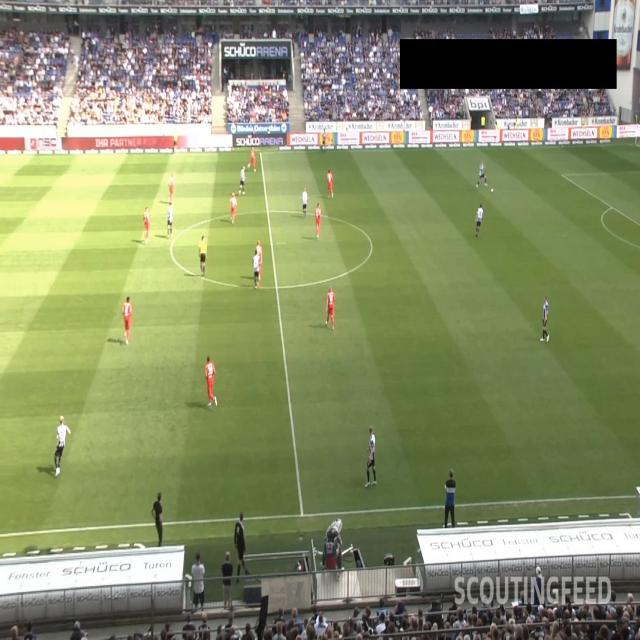ball: (490, 188, 494, 194)
